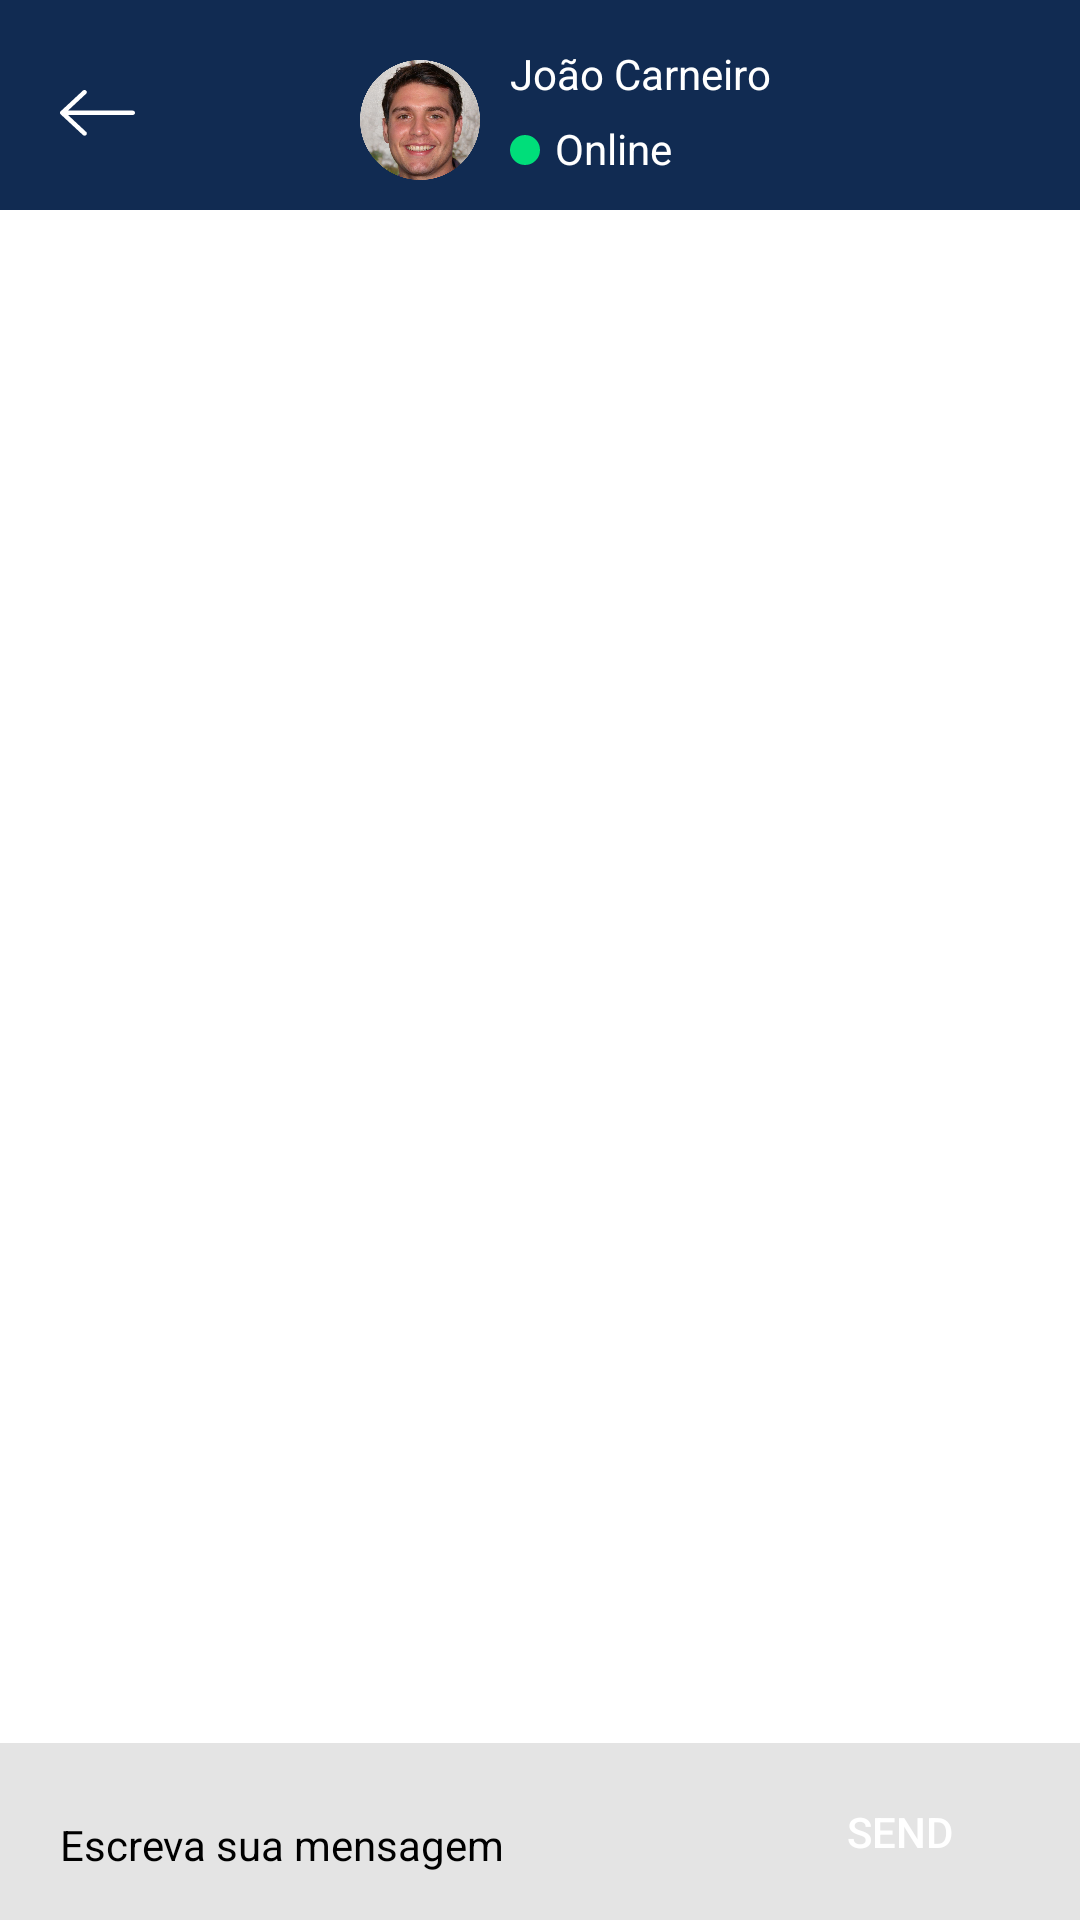

Icon bounding boxes for this 1080px×1920px phone screenshot, format (x1=x1, y1=y1, x2=x2, y2=y2):
foto perfil: (x1=360, y1=60, x2=480, y2=180)
voltar: (x1=60, y1=90, x2=135, y2=136)
